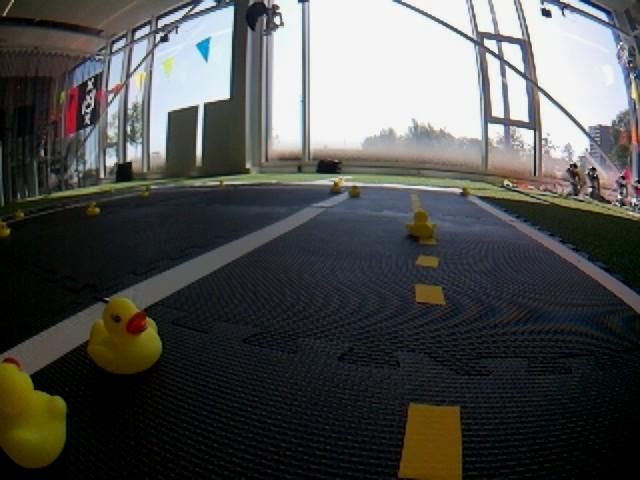Duckies: (0, 358, 67, 472), (87, 299, 164, 373), (406, 210, 436, 237), (86, 201, 100, 216), (1, 220, 11, 237), (330, 182, 344, 194), (348, 185, 361, 196), (137, 190, 148, 197), (14, 211, 24, 218), (334, 177, 344, 184), (463, 186, 473, 193)
